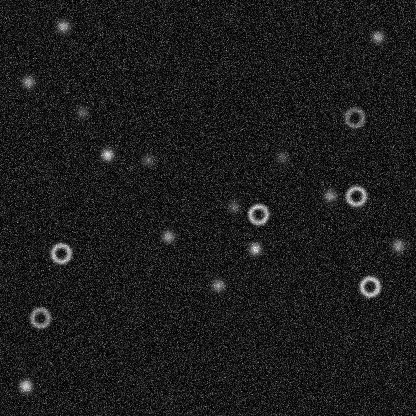Ring: (246, 202, 270, 226), (343, 184, 367, 208), (28, 305, 52, 329), (342, 105, 366, 129), (48, 241, 72, 265), (357, 274, 381, 298)
Spot: (20, 73, 36, 89), (210, 277, 226, 293), (17, 377, 33, 393), (74, 103, 90, 119), (140, 152, 156, 168), (159, 228, 175, 244), (99, 146, 115, 162), (390, 237, 406, 253), (225, 198, 241, 214), (321, 187, 337, 203), (273, 149, 289, 165), (55, 18, 71, 34), (247, 240, 263, 256), (369, 29, 385, 45)
